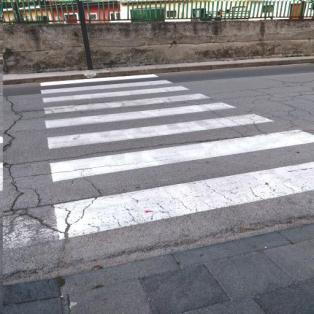Paso de Cebra: (38, 101, 298, 153), (33, 72, 210, 95)
